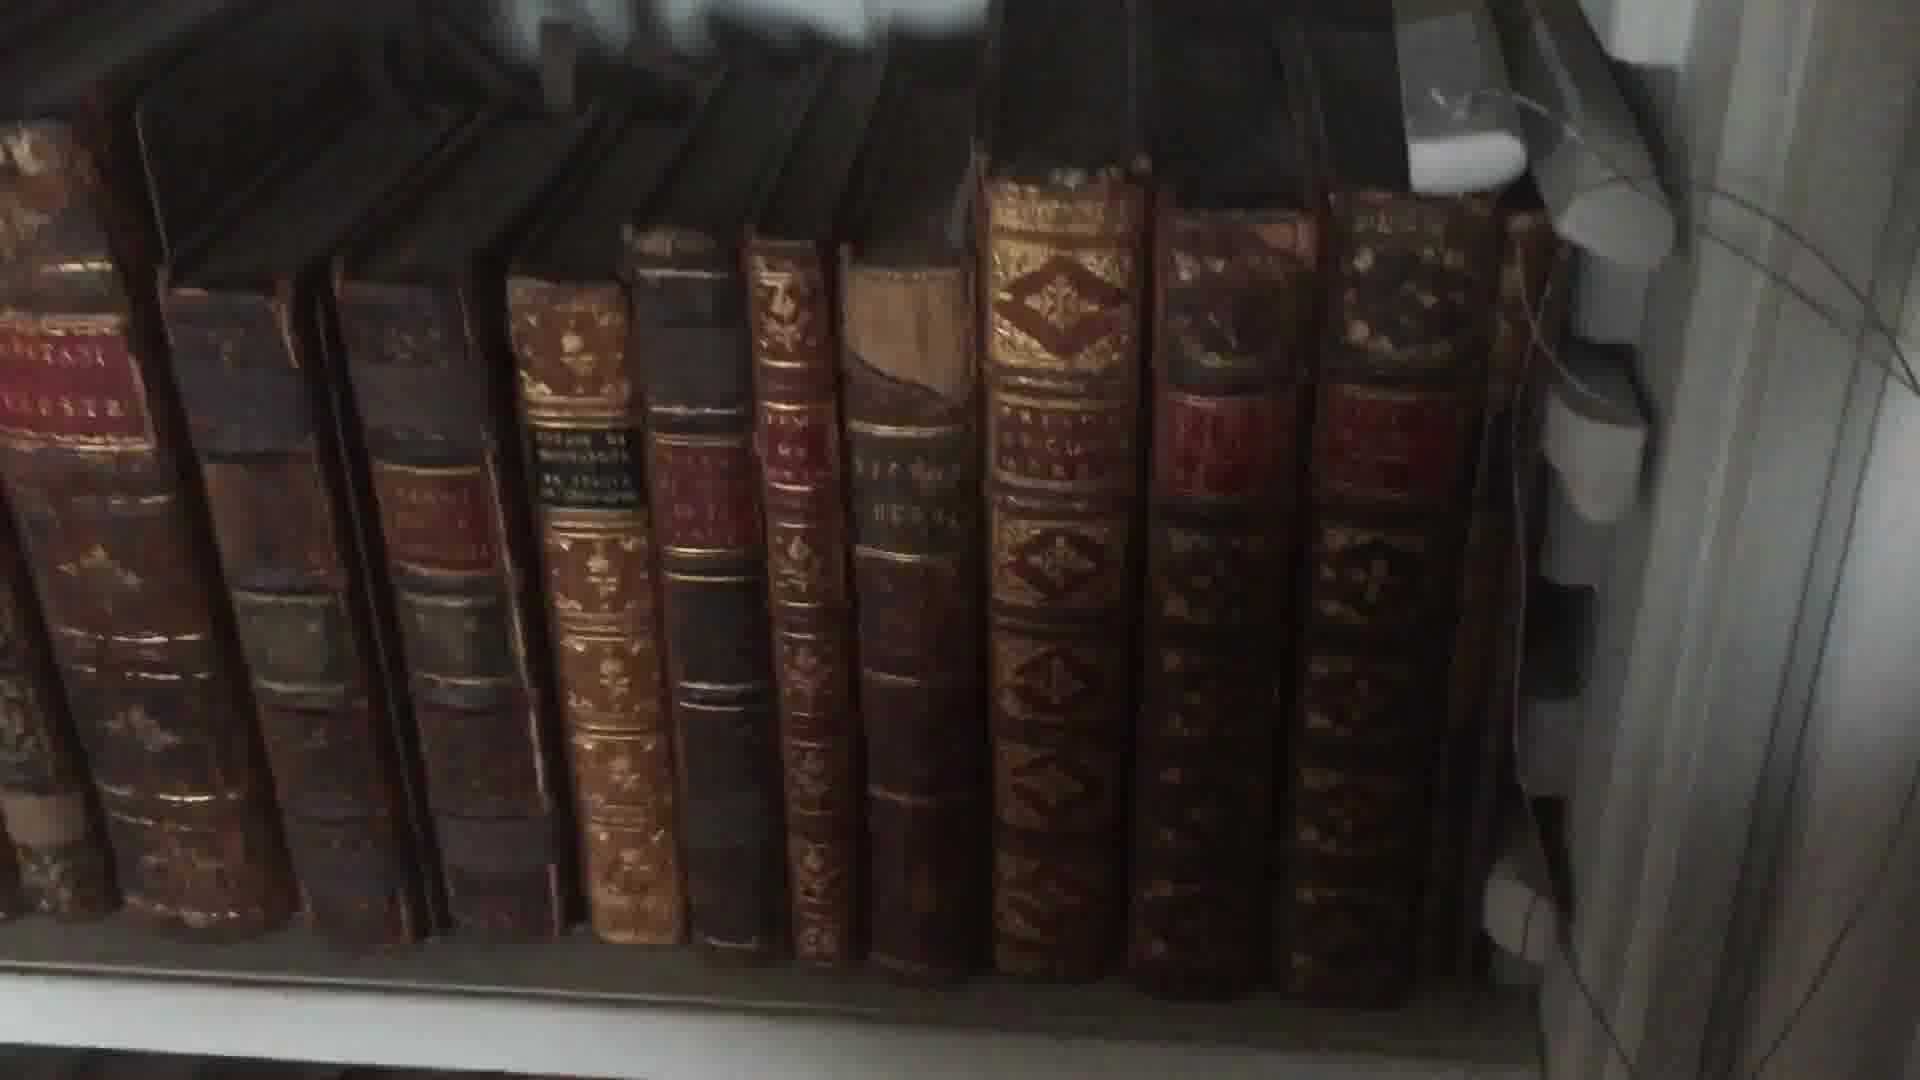Aa6-39_40: (148, 253, 604, 968)
Aa6-41: (497, 258, 687, 956)
Aa6-42: (616, 233, 833, 963)
Aa6-43: (741, 208, 870, 1009)
Aa6-44: (819, 239, 990, 1005)
Aa6-45: (960, 146, 1138, 1022)
Aa6-46-47: (1138, 179, 1437, 1000)
Aa6-48: (1441, 195, 1545, 1027)
